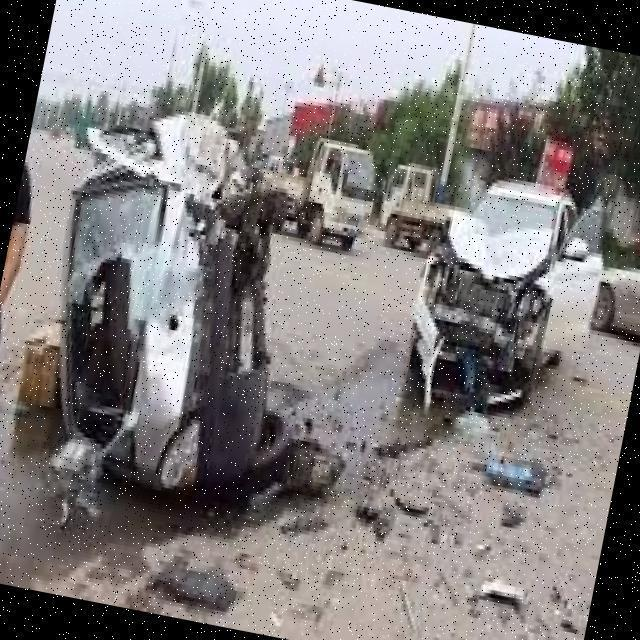accident: (8, 83, 385, 556), (377, 118, 624, 456)
